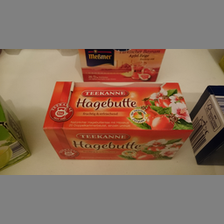tea: (42, 82, 193, 160), (77, 50, 167, 81)
